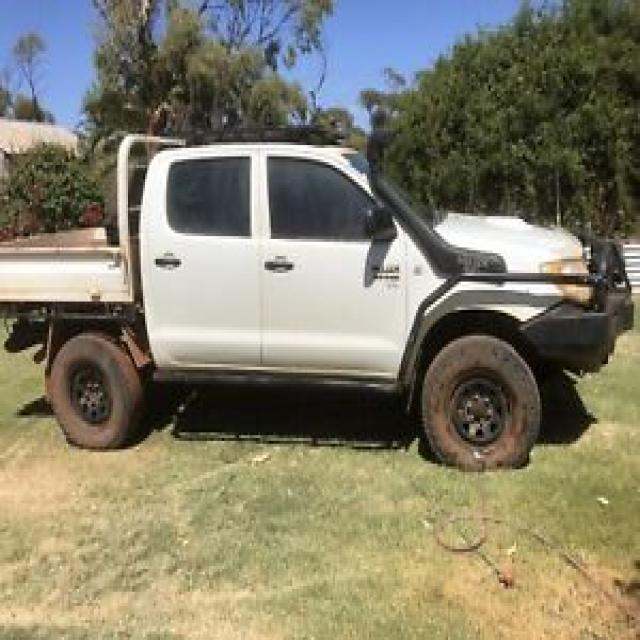light_vehicle: (0, 119, 636, 475)
